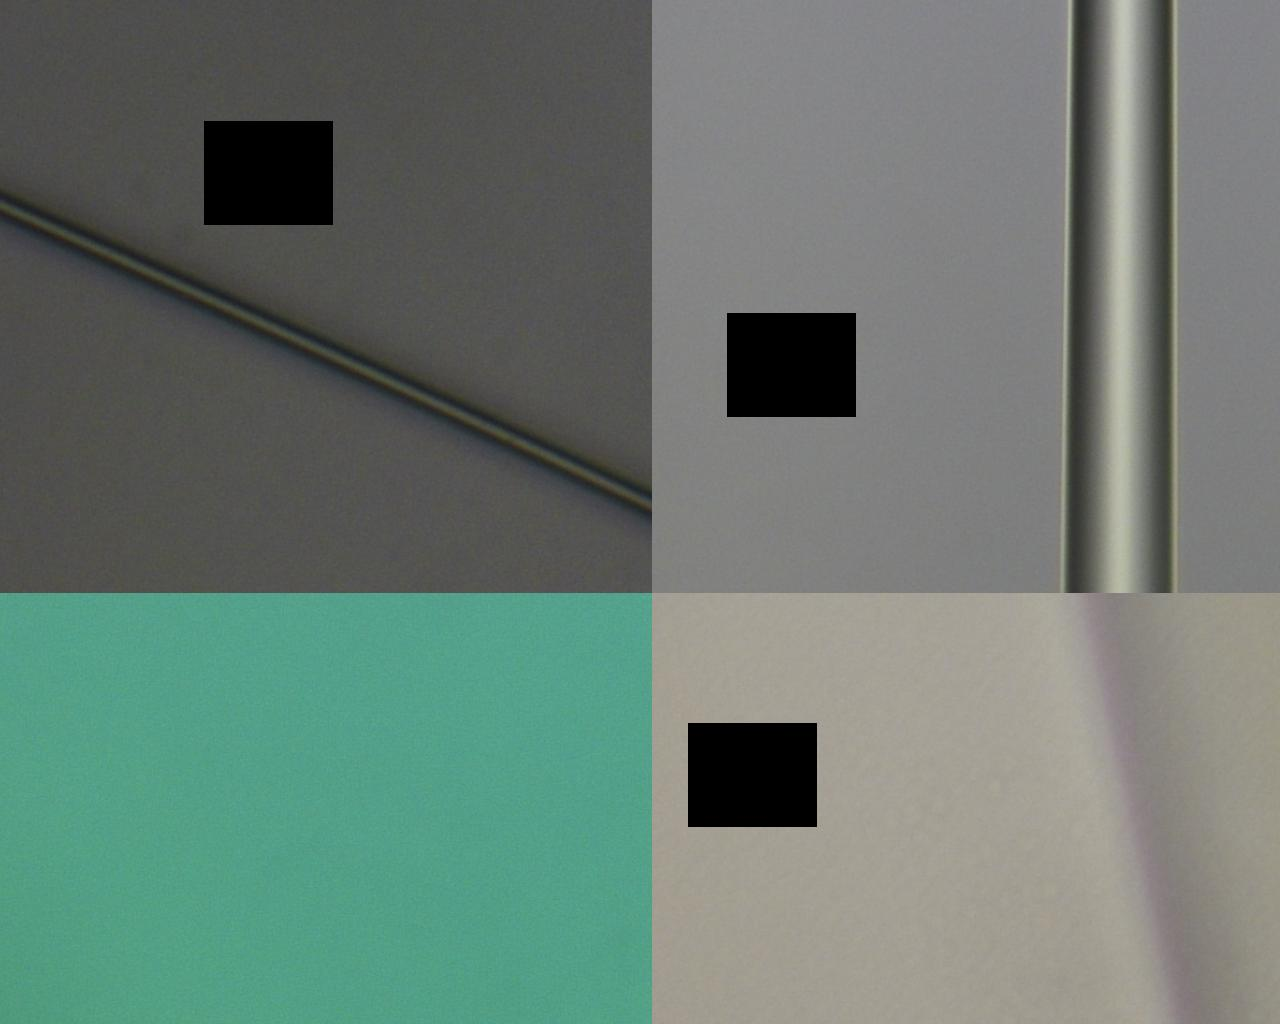fiber: (611, 0, 1280, 727), (815, 727, 1156, 1024)
